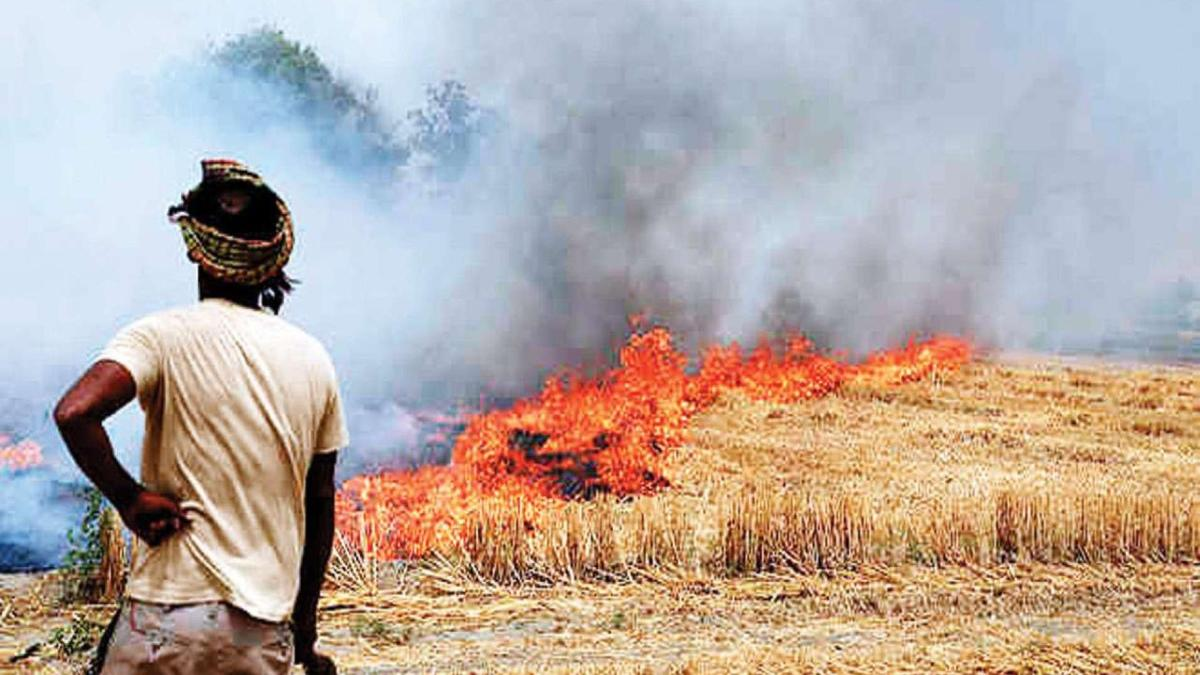fire: (336, 318, 972, 557), (0, 440, 46, 474)
smoke: (289, 0, 1198, 343), (1, 4, 189, 324), (338, 319, 454, 461), (191, 43, 283, 170), (0, 323, 56, 481), (0, 485, 82, 566), (457, 345, 607, 379)
